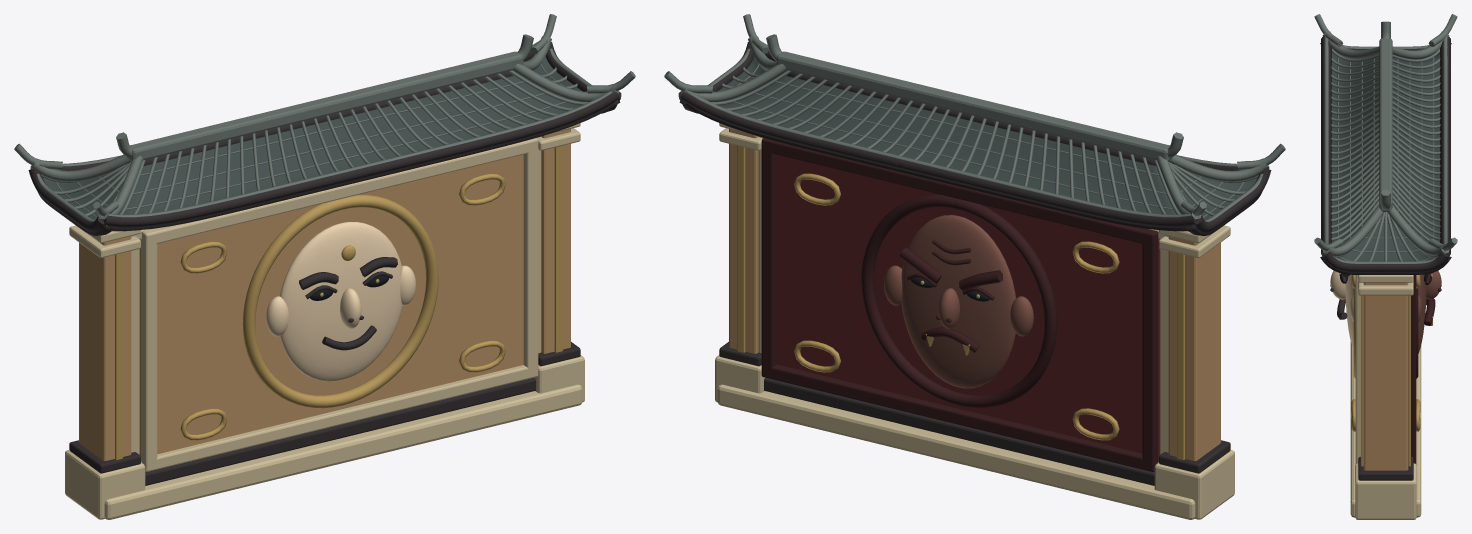
File: twin_screen.glb
3 views of the same model, side by side, from view 1: azimuth 30°, elevation 25°; view 2: azimuth 150°, elevation 25°; view 3: azimuth 270°, elevation 25° (orthographic). The views are drawn at different scales.
Parts seen in each view (by area): view 1: twin_screen; view 2: twin_screen; view 3: twin_screen.
Boxes of the visible parts, x1,y1,x2,y2 form: twin_screen: (14,14,635,519); twin_screen: (664,14,1285,519); twin_screen: (1314,14,1457,519).
Bounding box in the file's own units: 7 × 4.5 × 1.87.
Materials: 1 (1 with a texture image).
